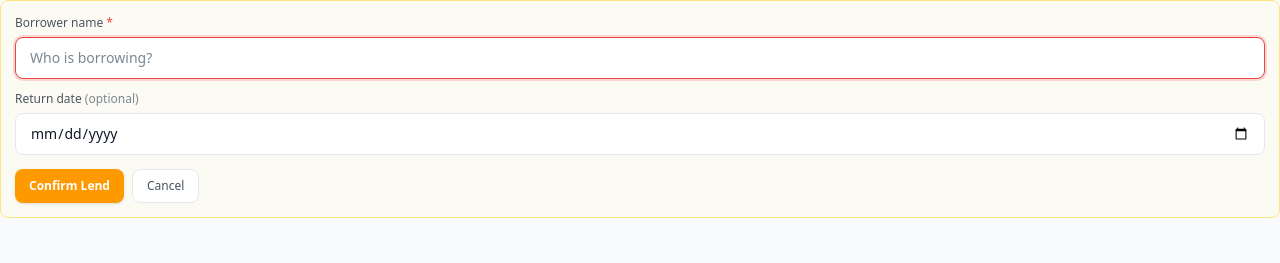
Test: BorrowForm › shows validation error when borrower name is empty on submit
Click the button "Confirm Lend": (70, 186) [15, 169, 124, 203]
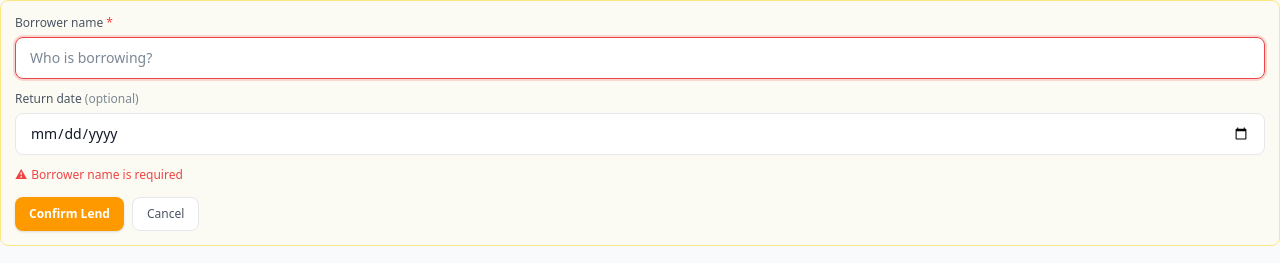
Result: the text "⚠ Borrower name is required" is shown at [15, 166, 183, 183]
